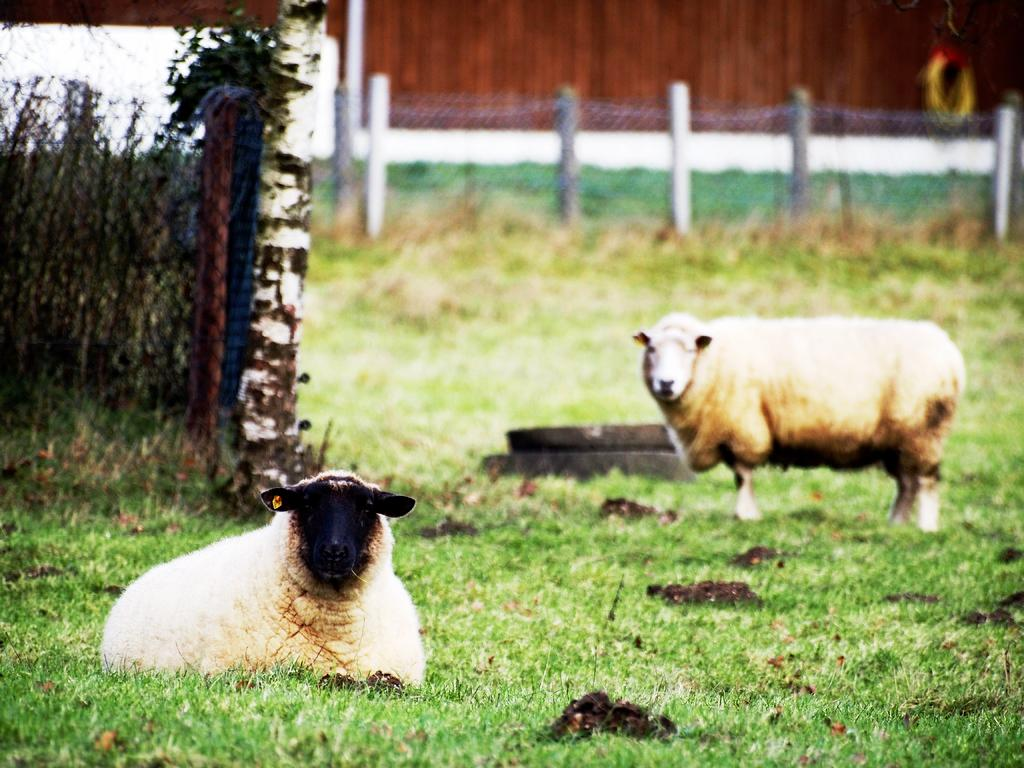Sheep: (637, 308, 969, 526), (96, 469, 424, 689)
